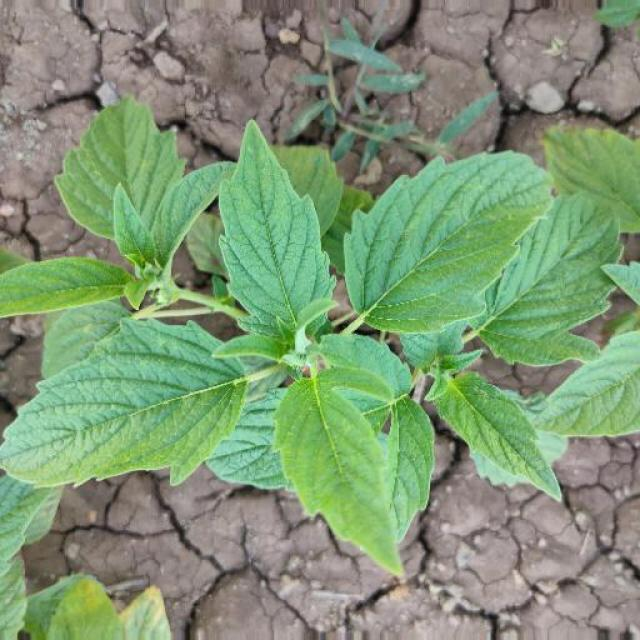crop: (39, 89, 564, 576)
